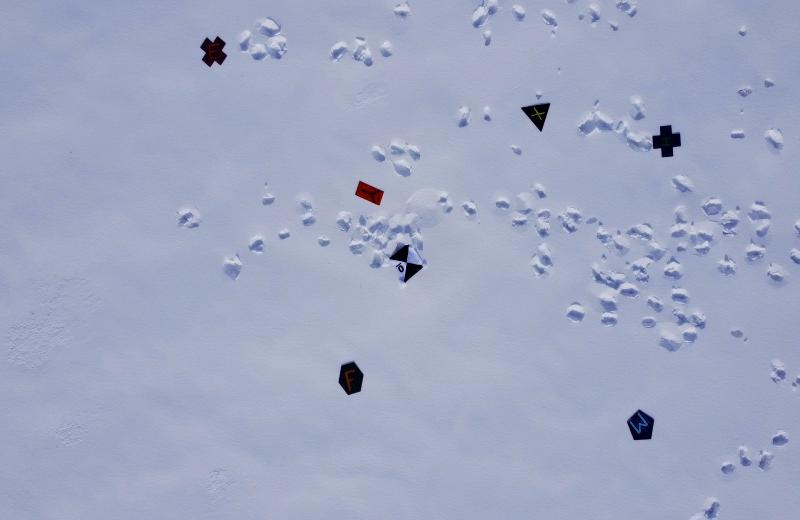Cross: (196, 34, 234, 73), (652, 122, 688, 162)
Hexagon: (338, 360, 368, 396)
Pentagon: (624, 407, 658, 447)
Rectangle: (351, 178, 392, 212)
Triangle: (518, 98, 557, 134)
